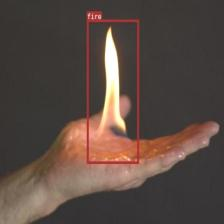fire: (86, 19, 139, 164)
